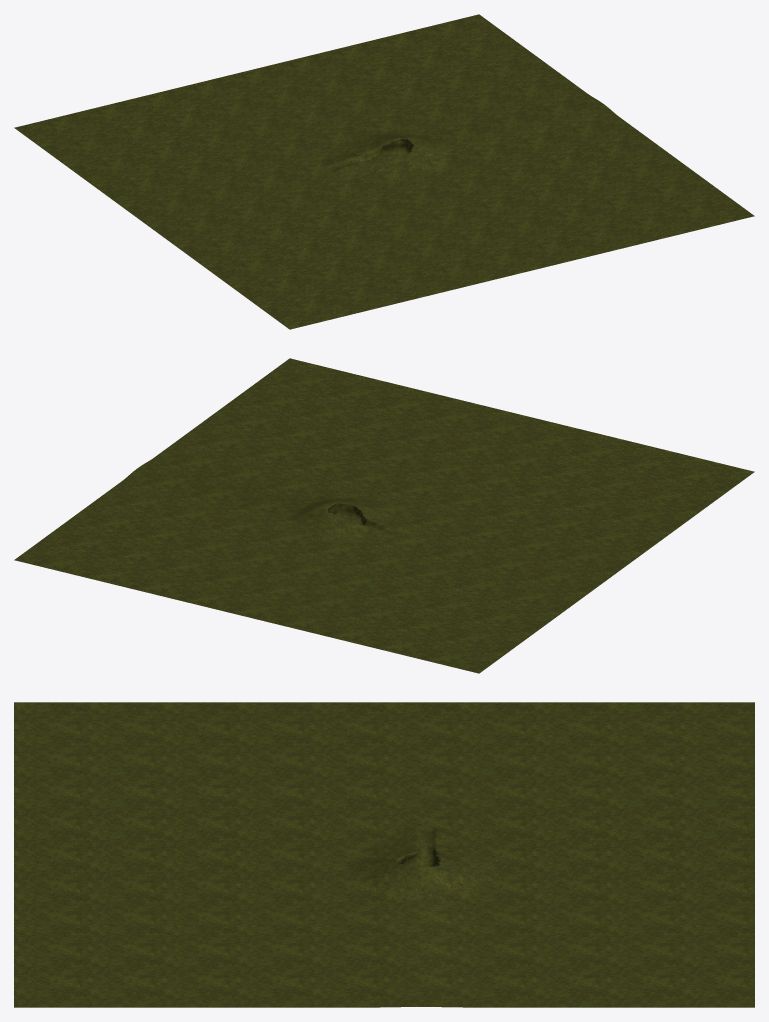
File: plano.glb
3 renders of one model, top to bottom at view 1: azimuth 30°, elevation 25°; view 2: azimuth 150°, elevation 25°; view 3: azimuth 270°, elevation 25°, orthographic. The views are drawn at different scales.
Parts seen in each view (by area): view 1: Plane; view 2: Plane; view 3: Plane.
Boxes of the visible parts, box(x1,y1,x2,y2) form: Plane: box(14, 14, 754, 329); Plane: box(14, 358, 754, 673); Plane: box(14, 702, 754, 1007).
Size of the model in its own units: 49.15 by 1.9 by 50.38.
Materials: 1 (1 with a texture image).
